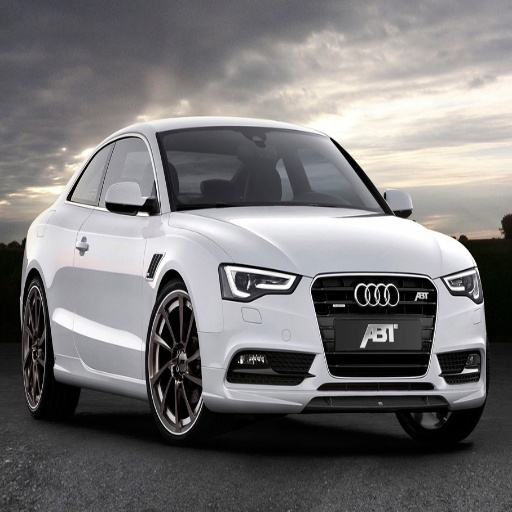back_left_light: (49, 139, 116, 367)
back_right_light: (196, 274, 483, 412)
front_bumper: (156, 128, 393, 214)
front_left_light: (75, 133, 160, 375)
front_right_door: (223, 265, 296, 302)
front_right_light: (206, 206, 473, 275)
trunk: (147, 281, 205, 443), (23, 277, 78, 418)
